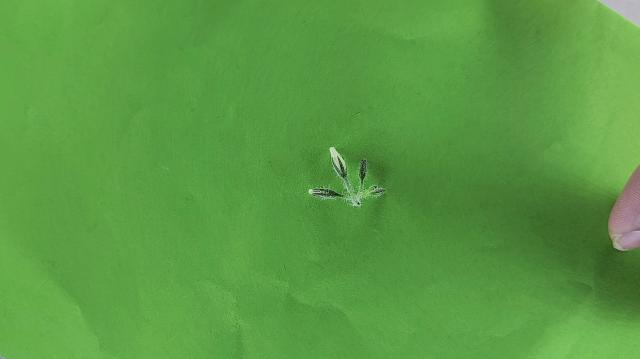Flower Bud: (329, 147, 347, 179), (308, 188, 344, 199), (369, 187, 387, 197), (340, 153, 347, 177), (360, 158, 367, 175)
